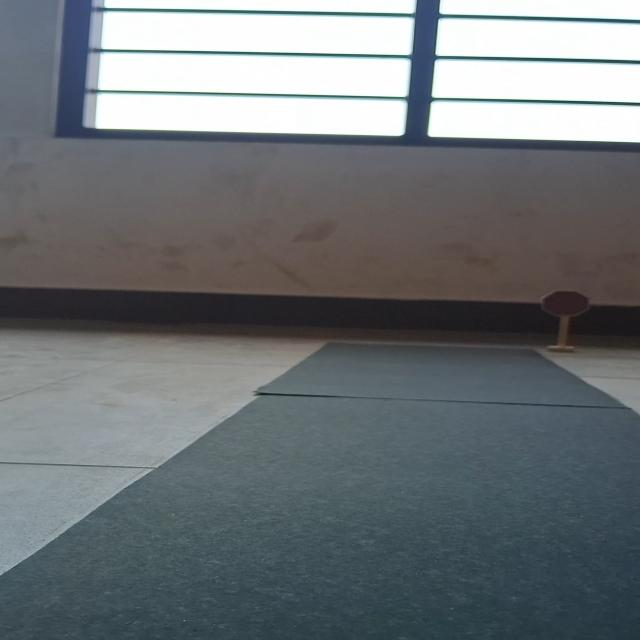Stop: (540, 290, 590, 317)
